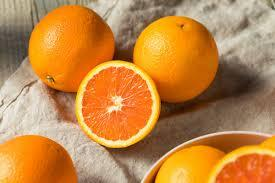non-mango: (25, 3, 118, 98), (129, 16, 223, 107), (74, 58, 159, 153)
